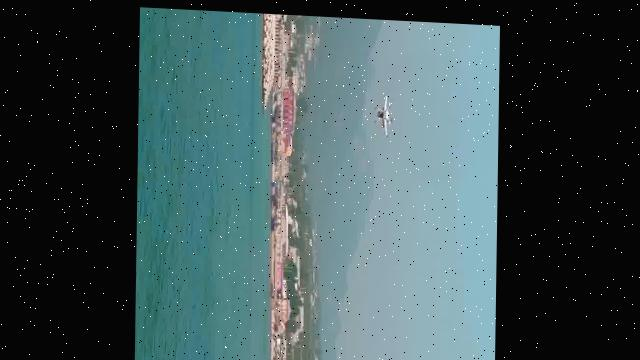drone: (368, 76, 398, 136)
